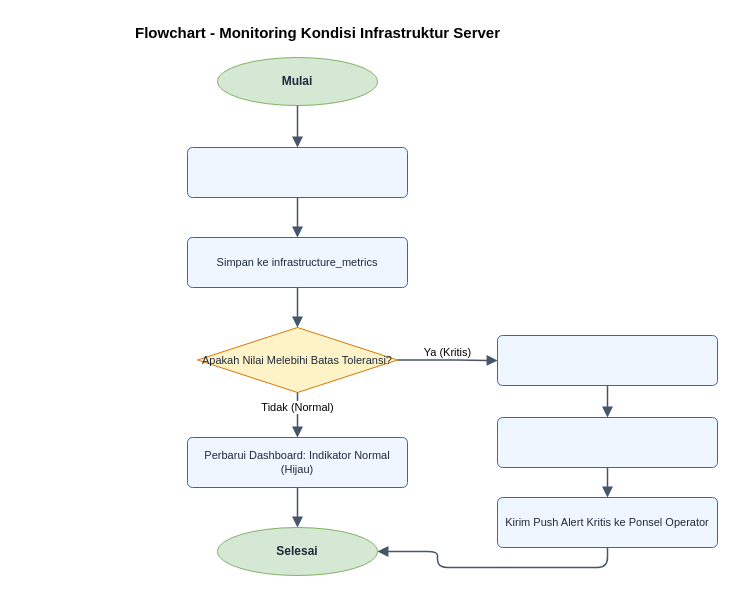
The diagram is 735 pixels wide and 594 high, and some of its shapes have lost their labels. The box of each missing label's shape, as (x1, y1, x2, y2) in pixels:
Catat Entri Peringatan ke infrastructure_alerts: (496, 416, 718, 468)
Menerima Data Telemetri Server (CPU, RAM, Disk): (186, 146, 408, 198)
Perbarui Dashboard: Indikator Bahaya (Merah): (496, 334, 718, 386)
